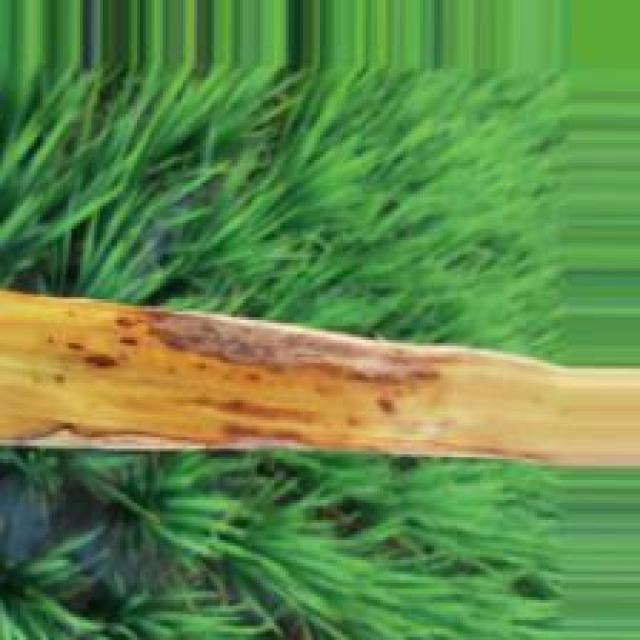Leaf_Scald: (126, 311, 462, 411), (5, 419, 404, 454), (82, 347, 120, 376)
